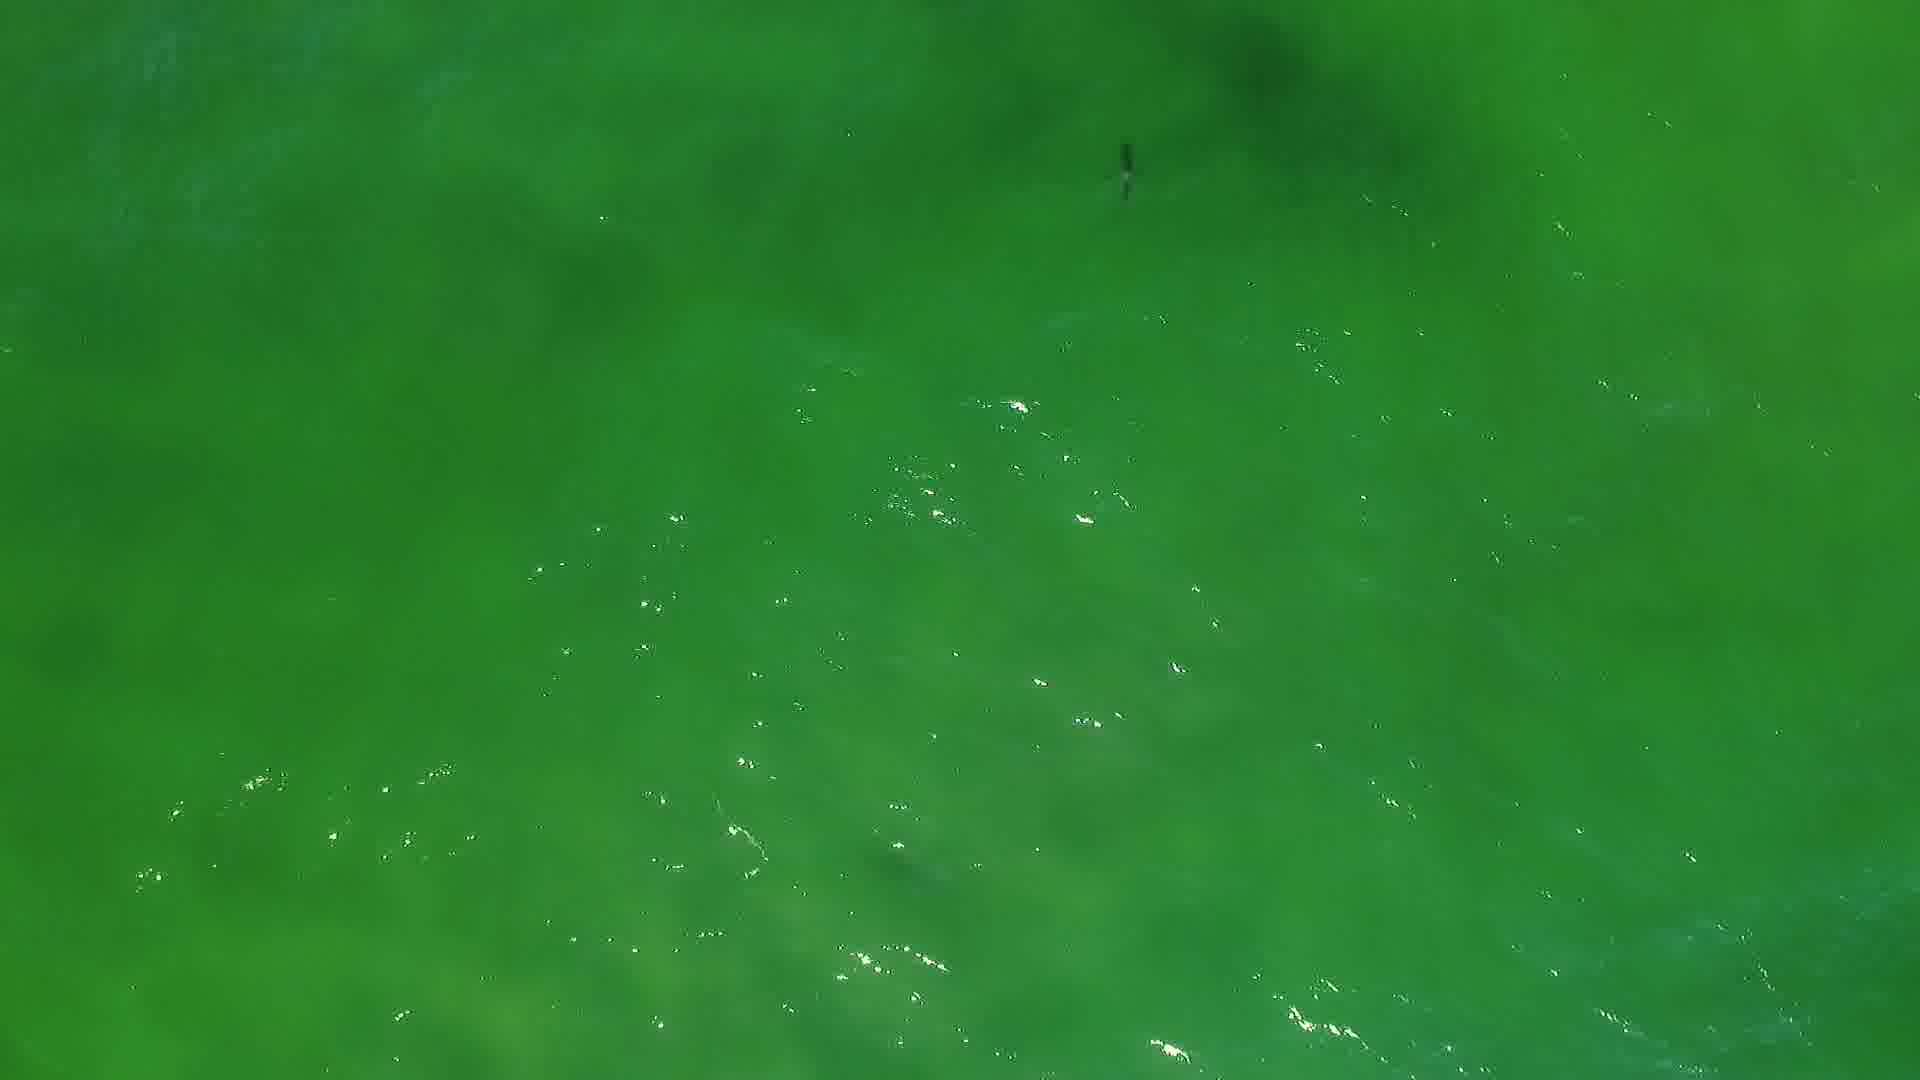shark: (1101, 137, 1151, 204)
